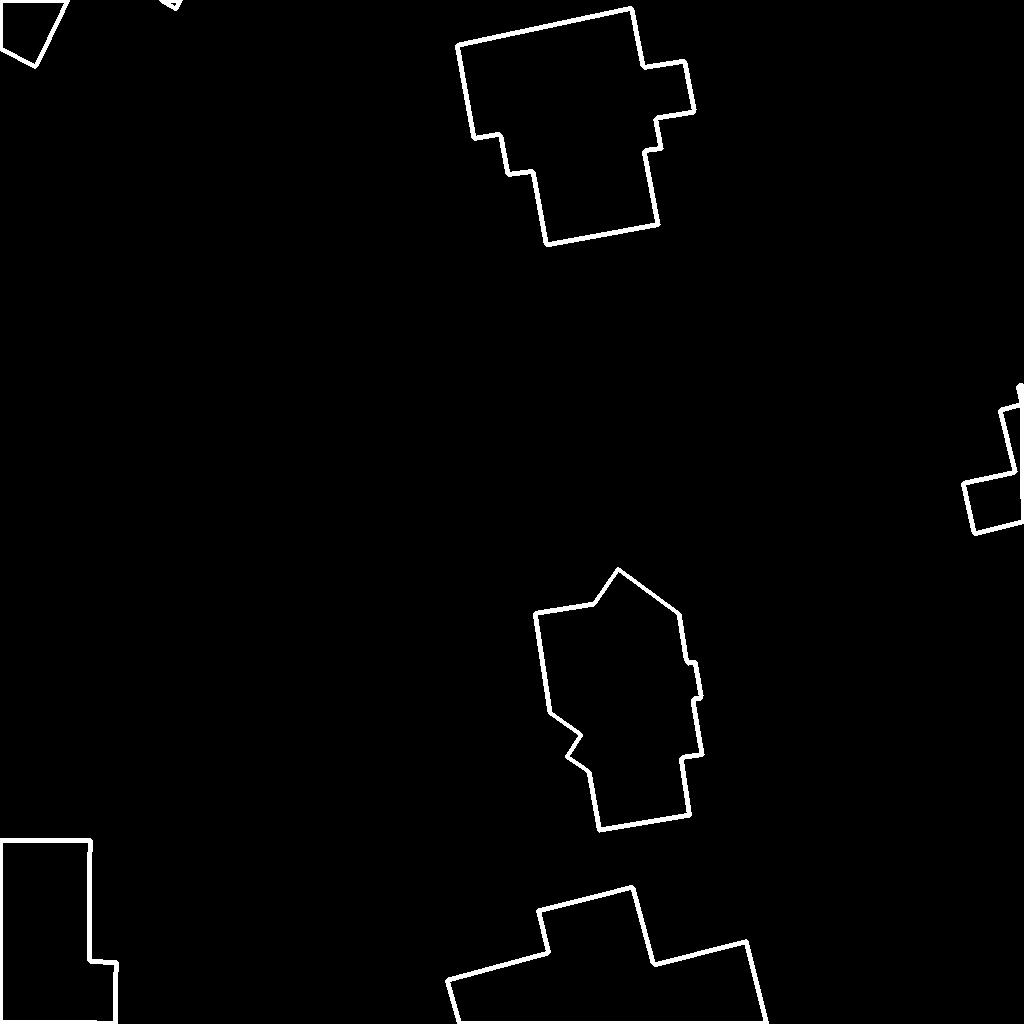building: (457, 8, 695, 246), (535, 569, 703, 831), (447, 887, 768, 1024), (0, 840, 117, 1024), (963, 385, 1024, 535), (0, 0, 69, 68), (160, 0, 182, 10)
